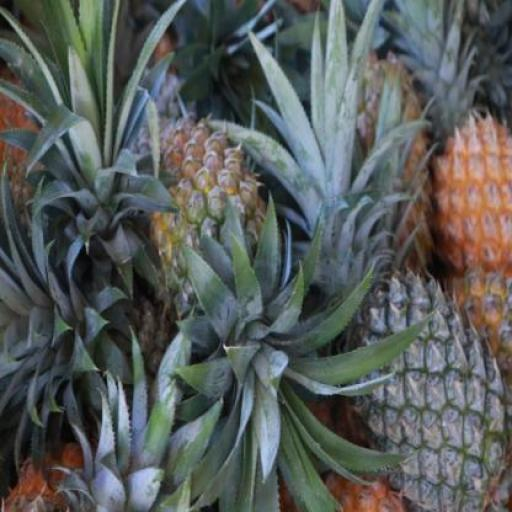------------------------------: (138, 120, 276, 330)
